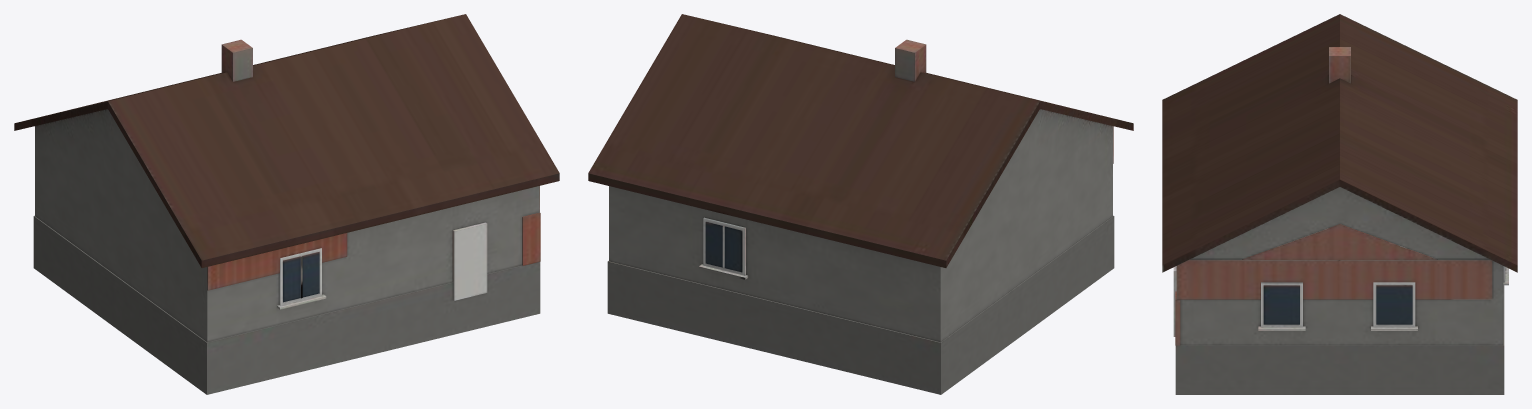
The model's file is dom_zabka.glb.
3 views of the same model, side by side, from view 1: azimuth 30°, elevation 25°; view 2: azimuth 150°, elevation 25°; view 3: azimuth 270°, elevation 25° (orthographic). The views are drawn at different scales.
Parts seen in each view (by area): view 1: dom_zabka; view 2: dom_zabka; view 3: dom_zabka.
Boxes of the visible parts, <box> form: dom_zabka: <box>14,14,559,394</box>; dom_zabka: <box>588,14,1133,394</box>; dom_zabka: <box>1162,14,1517,394</box>.
Size of the model in its own units: 10.8 by 7.4 by 9.8.
1 material, 1 textured.
